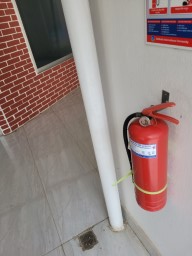fire_extinguisher: (69, 16, 159, 92)
